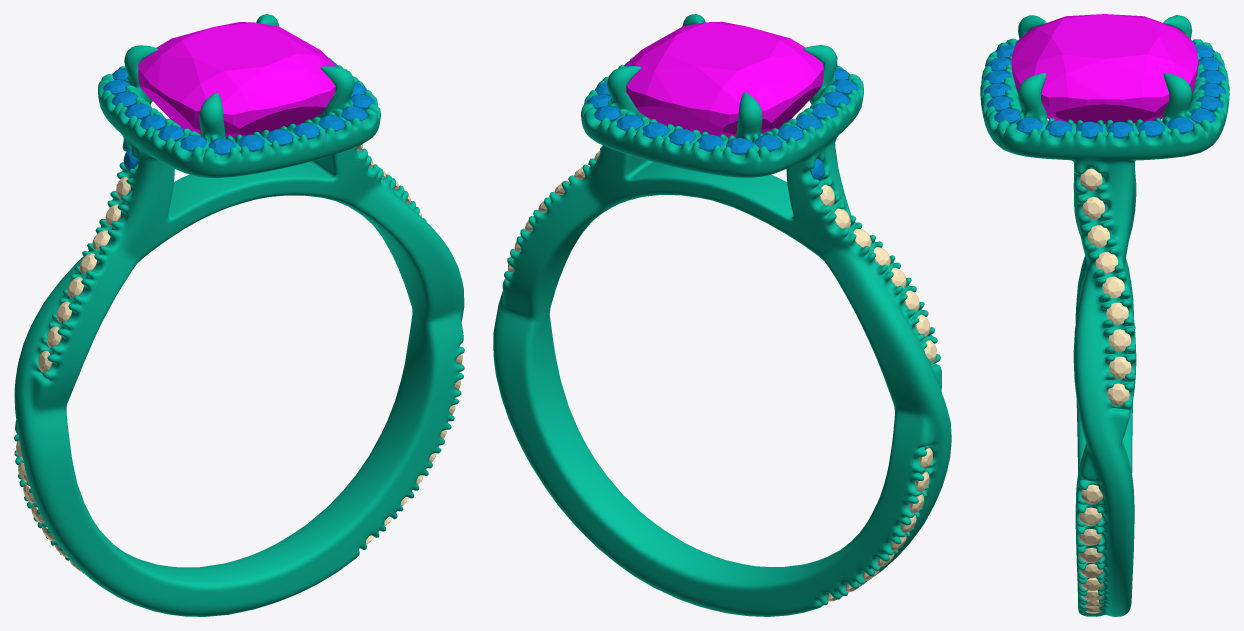
The model's file is BE1M54DH_CU_200ct_RENDER.glb.
3 renders of one model, left to right at view 1: azimuth 30°, elevation 25°; view 2: azimuth 150°, elevation 25°; view 3: azimuth 270°, elevation 25°, orthographic.
Visible parts, largest first — view 1: Metal 01, CS_Diamond_Cushion; view 2: Metal 01, CS_Diamond_Cushion; view 3: Metal 01, CS_Diamond_Cushion, Diamond_Round_Gem_SH.011, Diamond_Round_Gem_SH.012, Diamond_Round_Gem_SH.017, Diamond_Round_Gem_SH.016, Diamond_Round_Gem_SH.015, Diamond_Round_Gem_SH.010, Diamond_Round_Gem_SH.018, Diamond_Round_Gem_SH.014, Diamond_Round_Gem_SH.013.
Part boxes in pixels (x1,y1,x2,y2): Metal 01: (14,14,464,616); CS_Diamond_Cushion: (138,22,336,138); Metal 01: (493,14,951,616); CS_Diamond_Cushion: (625,21,823,138); Metal 01: (980,15,1229,616); CS_Diamond_Cushion: (1011,14,1198,123); Diamond_Round_Gem_SH.011: (1082,197,1104,219); Diamond_Round_Gem_SH.012: (1087,225,1109,247); Diamond_Round_Gem_SH.017: (1109,356,1131,378); Diamond_Round_Gem_SH.016: (1108,329,1130,351); Diamond_Round_Gem_SH.015: (1106,302,1128,324); Diamond_Round_Gem_SH.010: (1080,168,1102,190); Diamond_Round_Gem_SH.018: (1107,383,1129,405); Diamond_Round_Gem_SH.014: (1102,276,1124,298); Diamond_Round_Gem_SH.013: (1095,252,1117,272).
Size of the model in its own units: 20.51 by 24.67 by 9.99.
